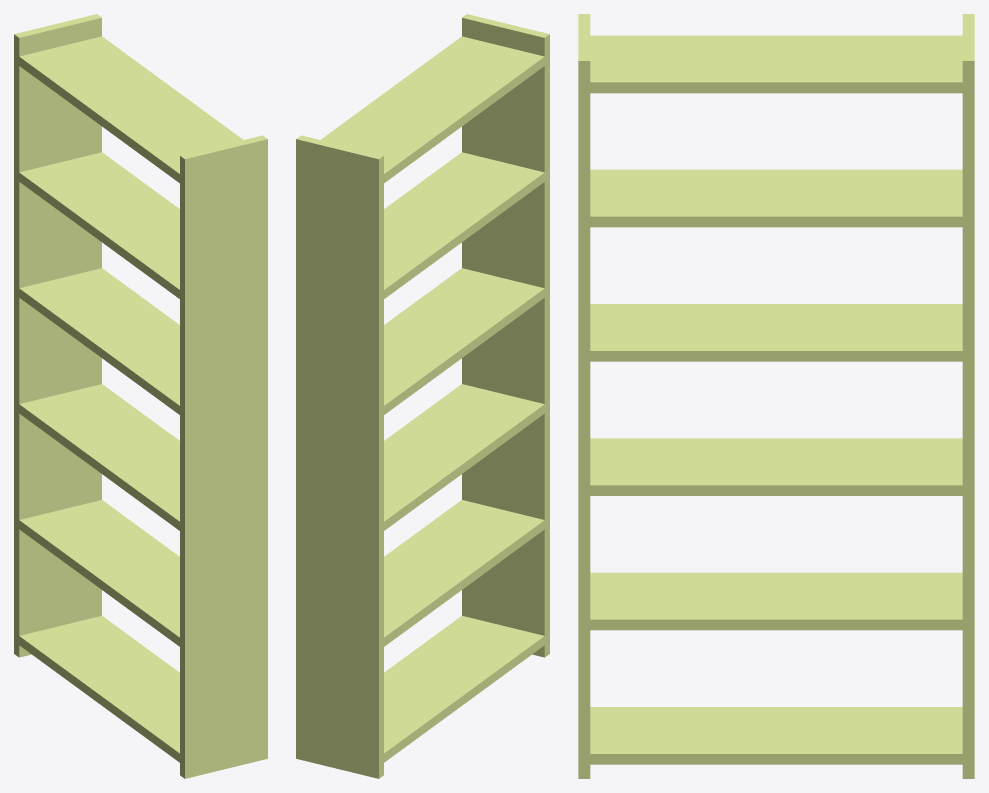
Rendered from Shelves.fbx.
3 renders of one model, left to right at view 1: azimuth 30°, elevation 25°; view 2: azimuth 150°, elevation 25°; view 3: azimuth 270°, elevation 25°, orthographic. The views are drawn at different scales.
Visible parts, largest first — view 1: Shelves; view 2: Shelves; view 3: Shelves.
Boxes of the visible parts, left/top/right/bottom form: Shelves: left=14, top=14, right=267, bottom=778; Shelves: left=296, top=14, right=549, bottom=778; Shelves: left=578, top=14, right=974, bottom=778.
Size of the model in its own units: 41.31 by 295 by 148.
